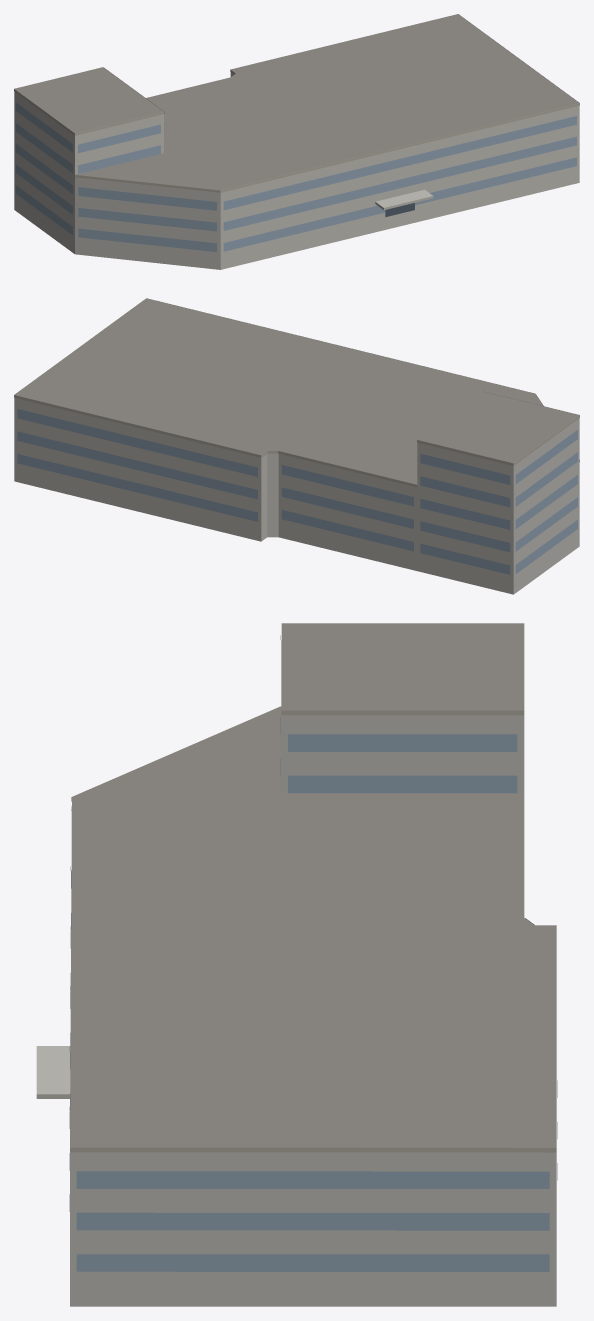
The model's file is commonwealth-savings-broadway.glb.
3 views of the same model, one above another, from view 1: azimuth 30°, elevation 25°; view 2: azimuth 150°, elevation 25°; view 3: azimuth 270°, elevation 25° (orthographic). The views are drawn at different scales.
Visible parts, largest first — view 1: commonwealth_savings_broadway; view 2: commonwealth_savings_broadway; view 3: commonwealth_savings_broadway.
Boxes of the visible parts, x1,y1,x2,y2 form: commonwealth_savings_broadway: (14, 14, 579, 269); commonwealth_savings_broadway: (14, 298, 579, 594); commonwealth_savings_broadway: (36, 623, 557, 1306).
Size of the model in its own units: 91.54 by 23.38 by 45.62.
